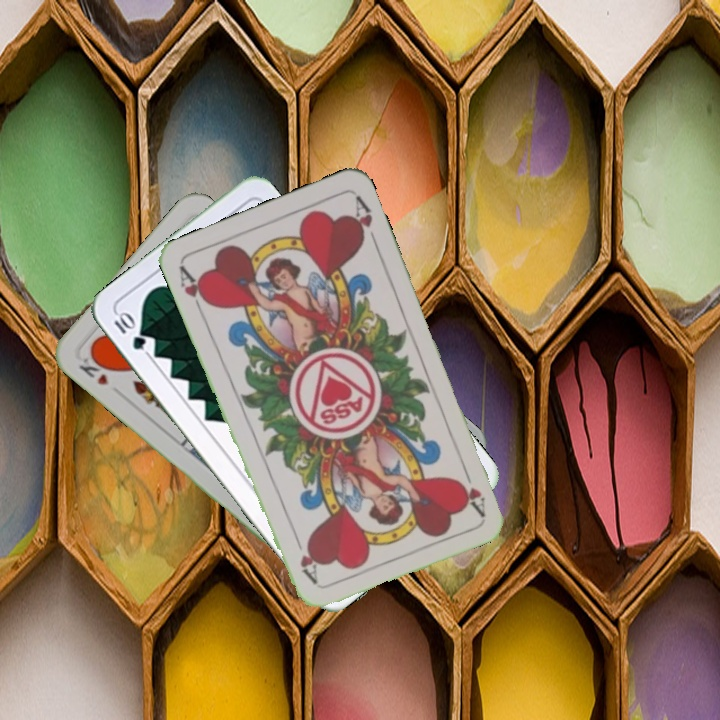G10: (109, 308, 149, 353)
HA: (175, 262, 213, 319), (457, 460, 488, 518)
HK: (74, 350, 114, 388)
